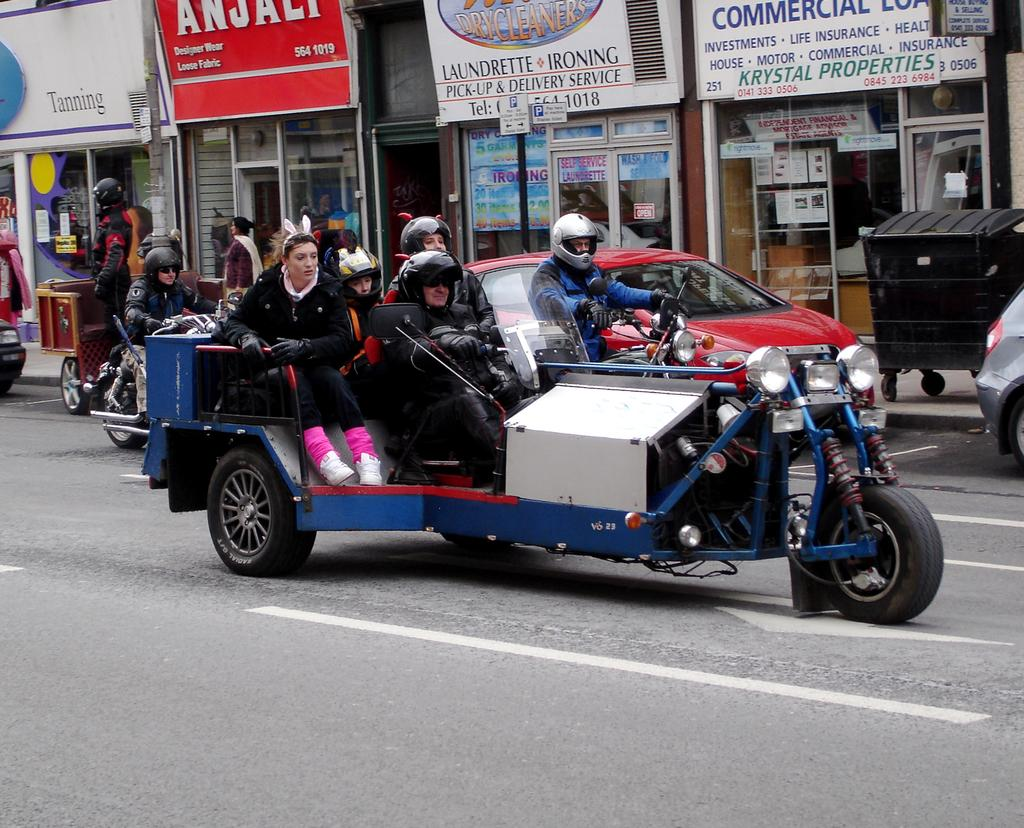helmet: (398, 249, 463, 310), (326, 243, 381, 309), (551, 213, 598, 270), (400, 216, 453, 266), (144, 247, 182, 286), (91, 178, 124, 211)
nohelmet: (280, 231, 319, 282), (229, 216, 251, 238)
